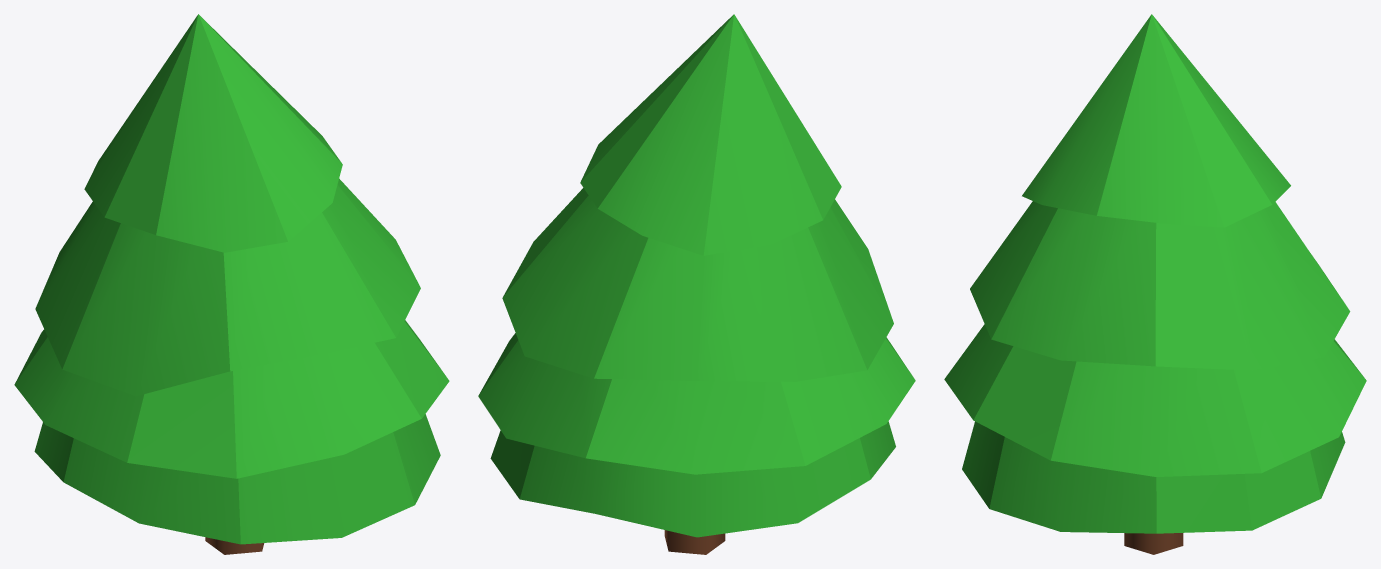
The model's file is Tree01.FBX.
The picture shows the model from 3 angles, left to right: view 1: azimuth 30°, elevation 25°; view 2: azimuth 150°, elevation 25°; view 3: azimuth 270°, elevation 25°; orthographic projection. The views are drawn at different scales.
Parts seen in each view (by area): view 1: Cylinder002, Cylinder001; view 2: Cylinder002, Cylinder001; view 3: Cylinder002, Cylinder001.
Boxes of the visible parts, x1=… form: Cylinder002: x1=14, y1=14, x2=449, y2=544; Cylinder001: x1=205, y1=537, x2=264, y2=554; Cylinder002: x1=478, y1=14, x2=915, y2=537; Cylinder001: x1=664, y1=530, x2=725, y2=554; Cylinder002: x1=944, y1=14, x2=1366, y2=533; Cylinder001: x1=1124, y1=533, x2=1183, y2=554.
Size of the model in its own units: 121 by 166 by 125.
